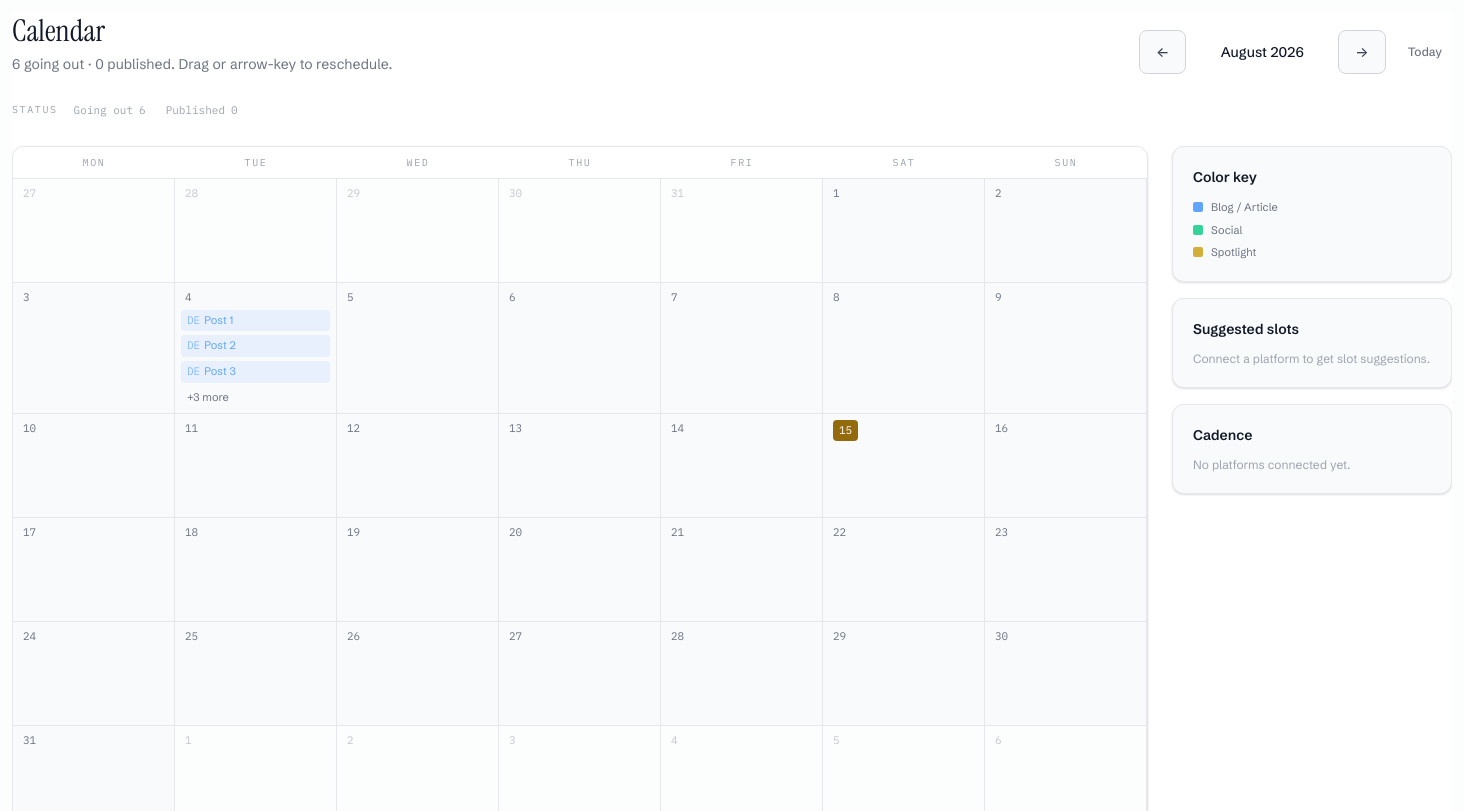
Test: a busy day › shows the rest when asked, and folds them away again
Expected: the link "Post 1" is shown, [181, 310, 330, 331]
Click the button "+3 more". click: {"x": 256, "y": 397}
box: [181, 387, 330, 407]
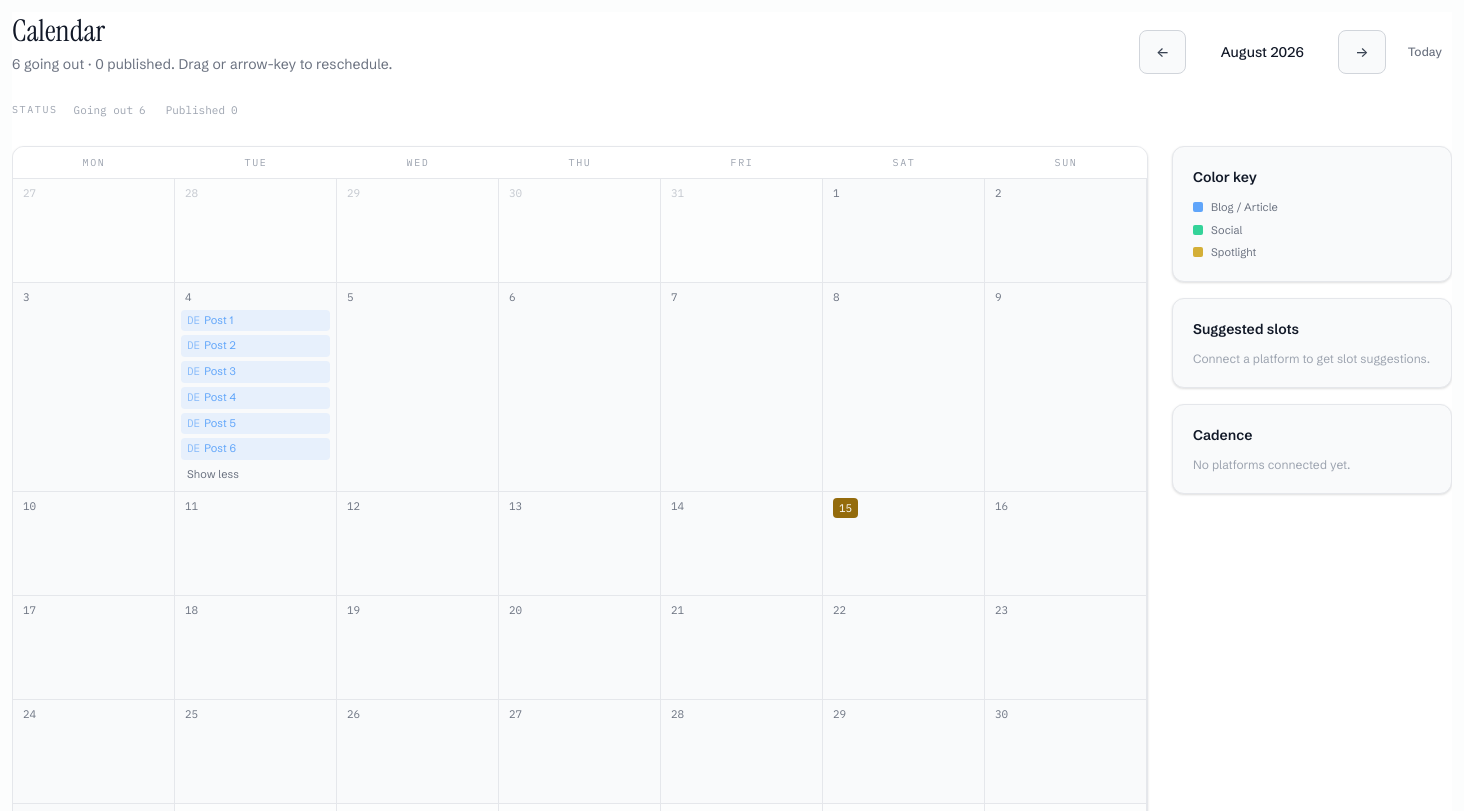
Now the link "Post 6" is shown, box [181, 438, 330, 460]
Click the button "Show less". click: {"x": 256, "y": 474}
box: [181, 464, 330, 484]
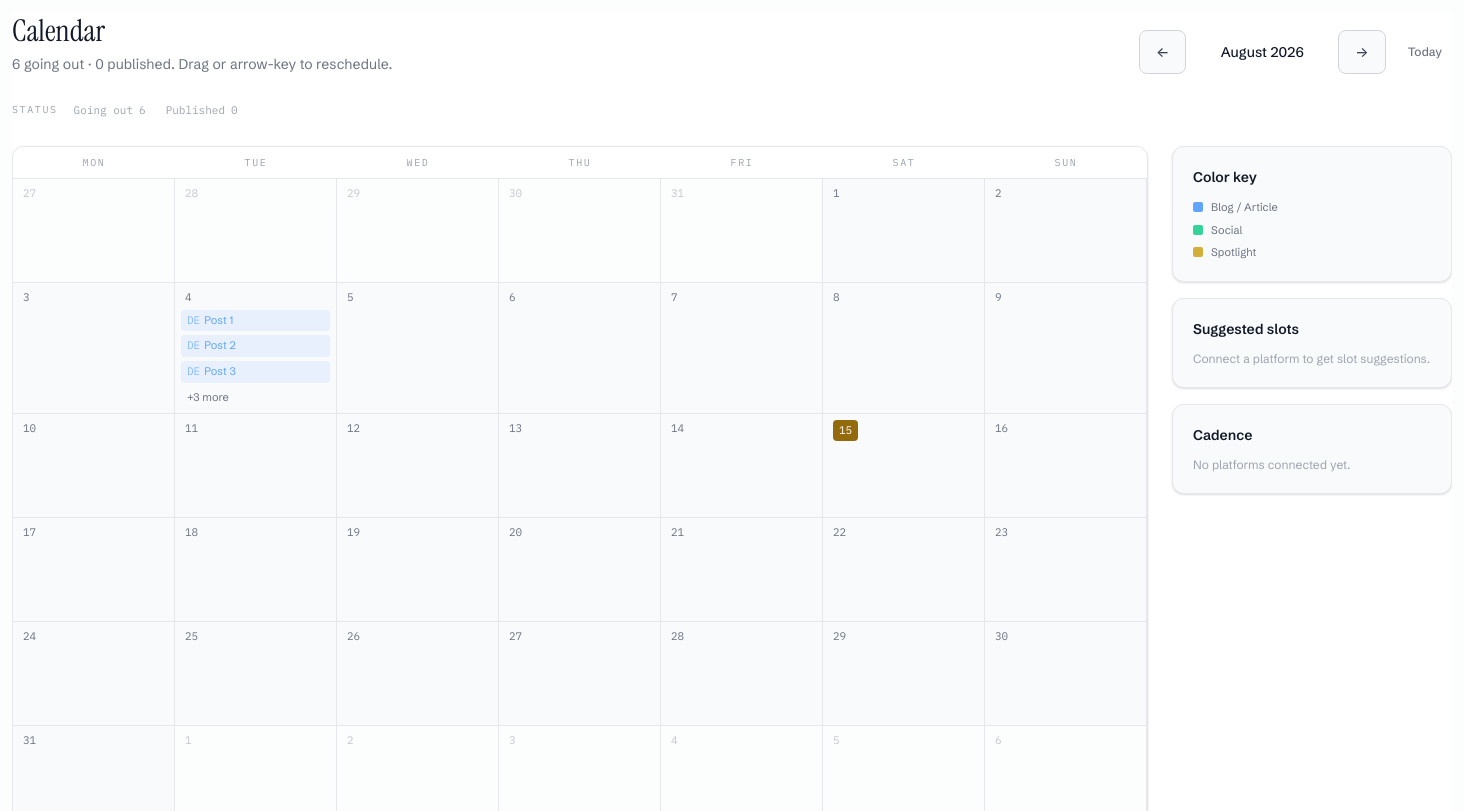
Now the link "Post 6" is gone
